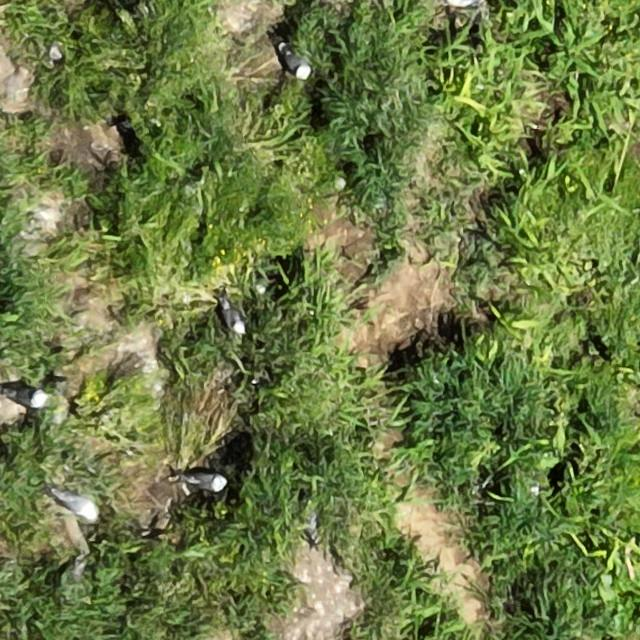umineko: (59, 496, 97, 520), (283, 47, 310, 78), (5, 389, 44, 409), (184, 472, 225, 491), (222, 301, 244, 332)
